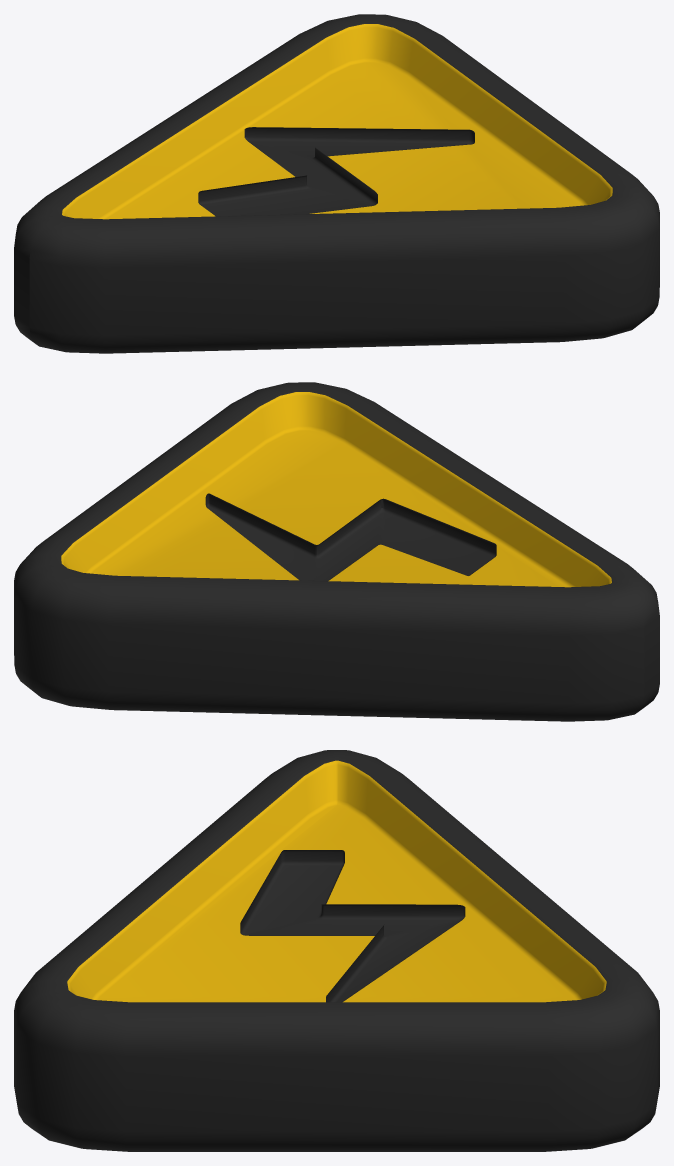
The model's file is 小心电.fbx.
3 views of the same model, one above another, from view 1: azimuth 30°, elevation 25°; view 2: azimuth 150°, elevation 25°; view 3: azimuth 270°, elevation 25° (orthographic). The views are drawn at different scales.
Parts seen in each view (by area): view 1: 小心电; view 2: 小心电; view 3: 小心电.
Boxes of the visible parts, bbox=[...] form: 小心电: bbox=[14, 14, 659, 353]; 小心电: bbox=[14, 382, 659, 721]; 小心电: bbox=[14, 750, 659, 1151].
Size of the model in its own units: 1.76 by 0.4001 by 1.68.
